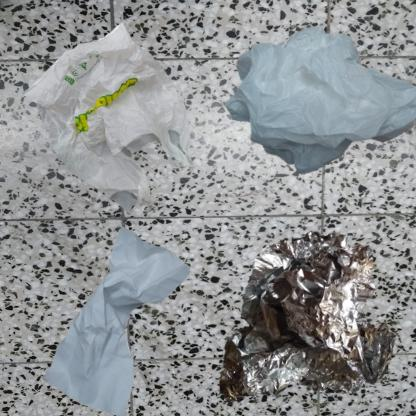aluminio: (213, 213, 416, 416)
bolsa: (10, 10, 213, 223), (213, 10, 416, 209)
papel: (10, 213, 233, 416)
